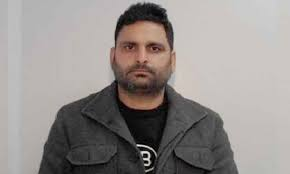Indian_Male: (119, 17, 165, 85)
